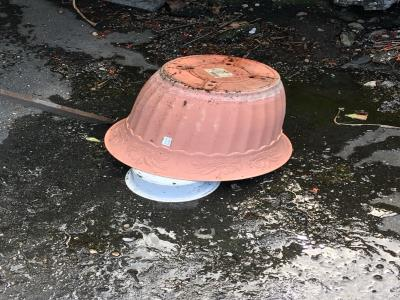bowl: (96, 52, 296, 184)
plate: (118, 166, 223, 203)
